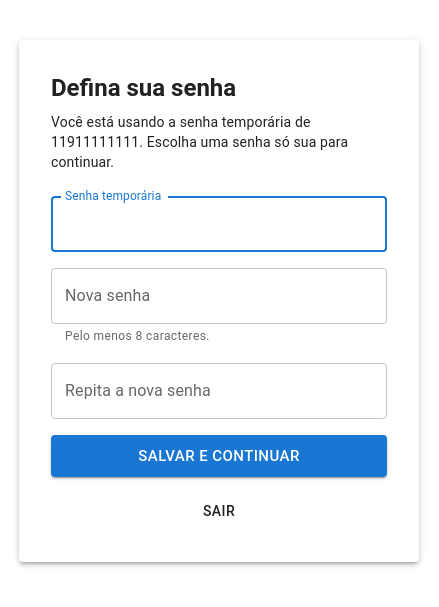
formulário › cobra os três campos
Click the button "Salvar e continuar": {"x": 219, "y": 456} left=51, top=435, right=387, bottom=477
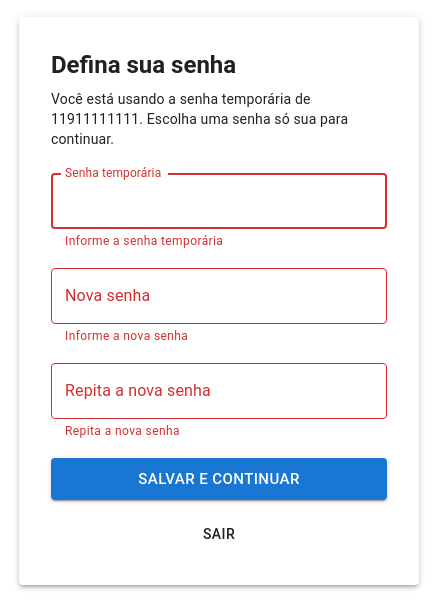
Check: the text "Informe a senha temporária" is shown, box left=65, top=234, right=223, bottom=248
Check: the text "Informe a nova senha" is shown, box left=65, top=329, right=188, bottom=343
